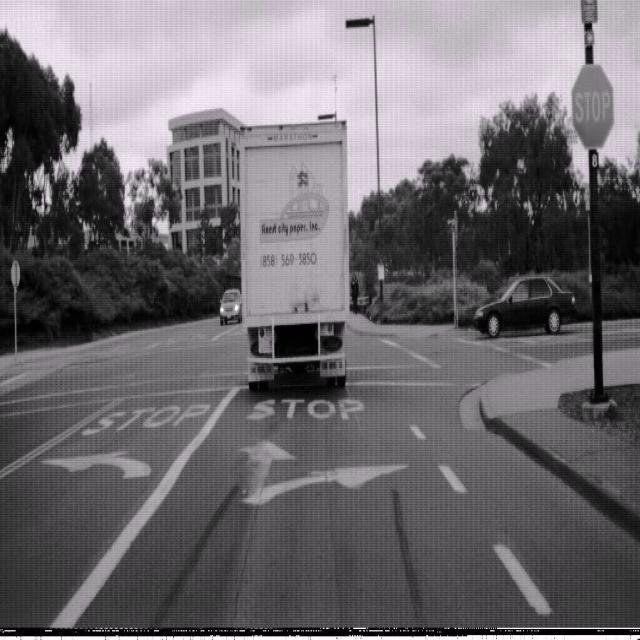stop: (571, 61, 615, 150)
